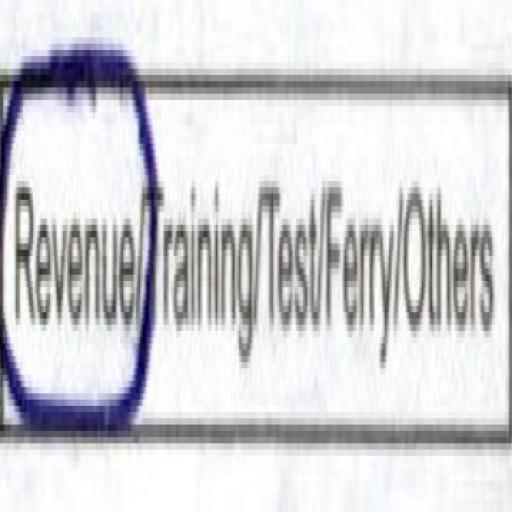check: (0, 2, 140, 468)
